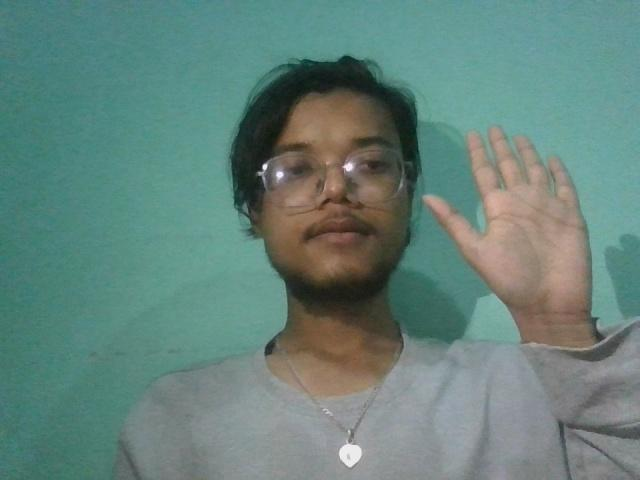hello: (413, 110, 626, 347)
